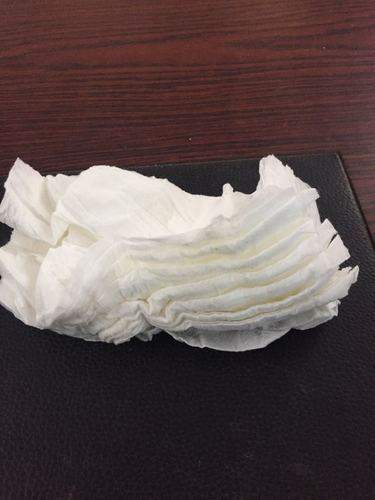Tissue: (1, 151, 363, 358)
